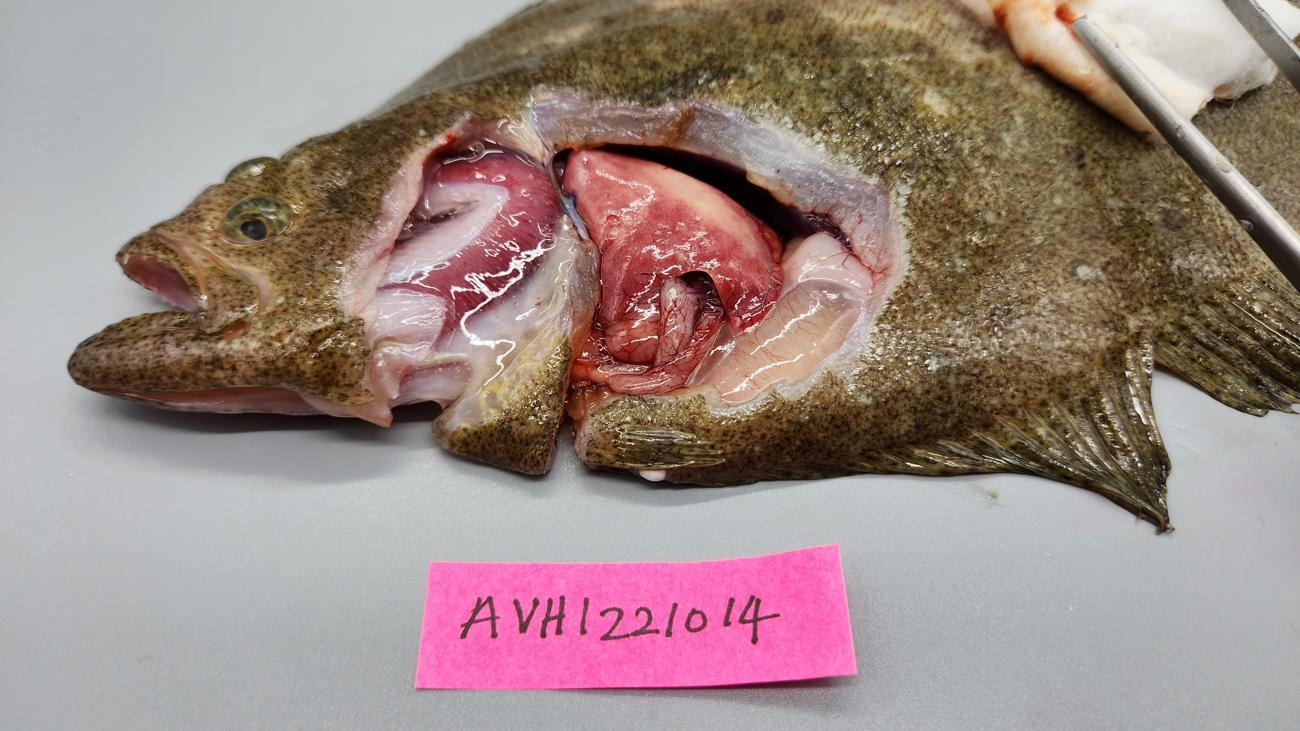VILIC: (569, 153, 789, 335)
VILII: (652, 167, 743, 242)
